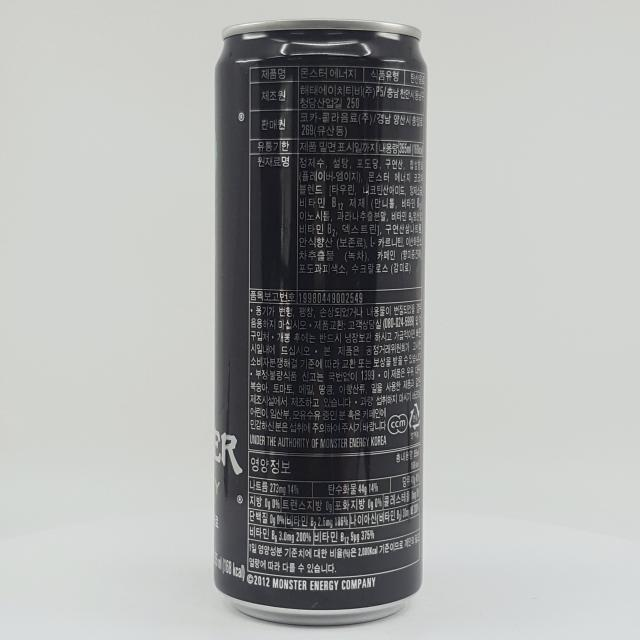--------355ML: (214, 19, 427, 626)
